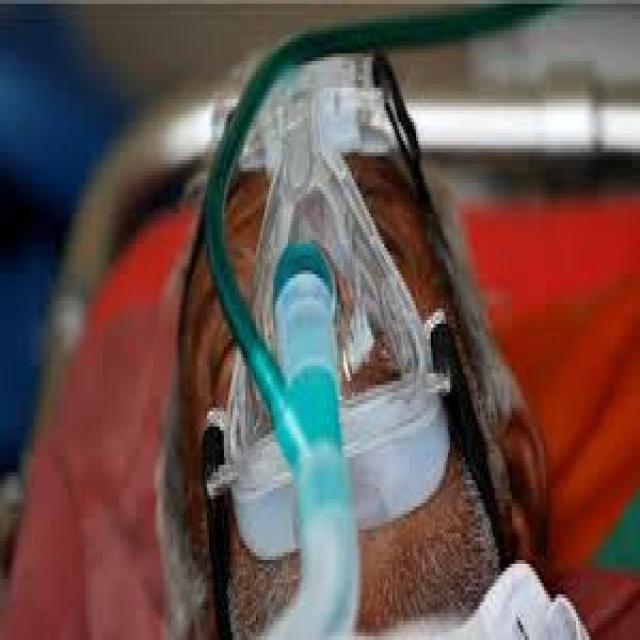oxygen_mask: (250, 123, 451, 565)
